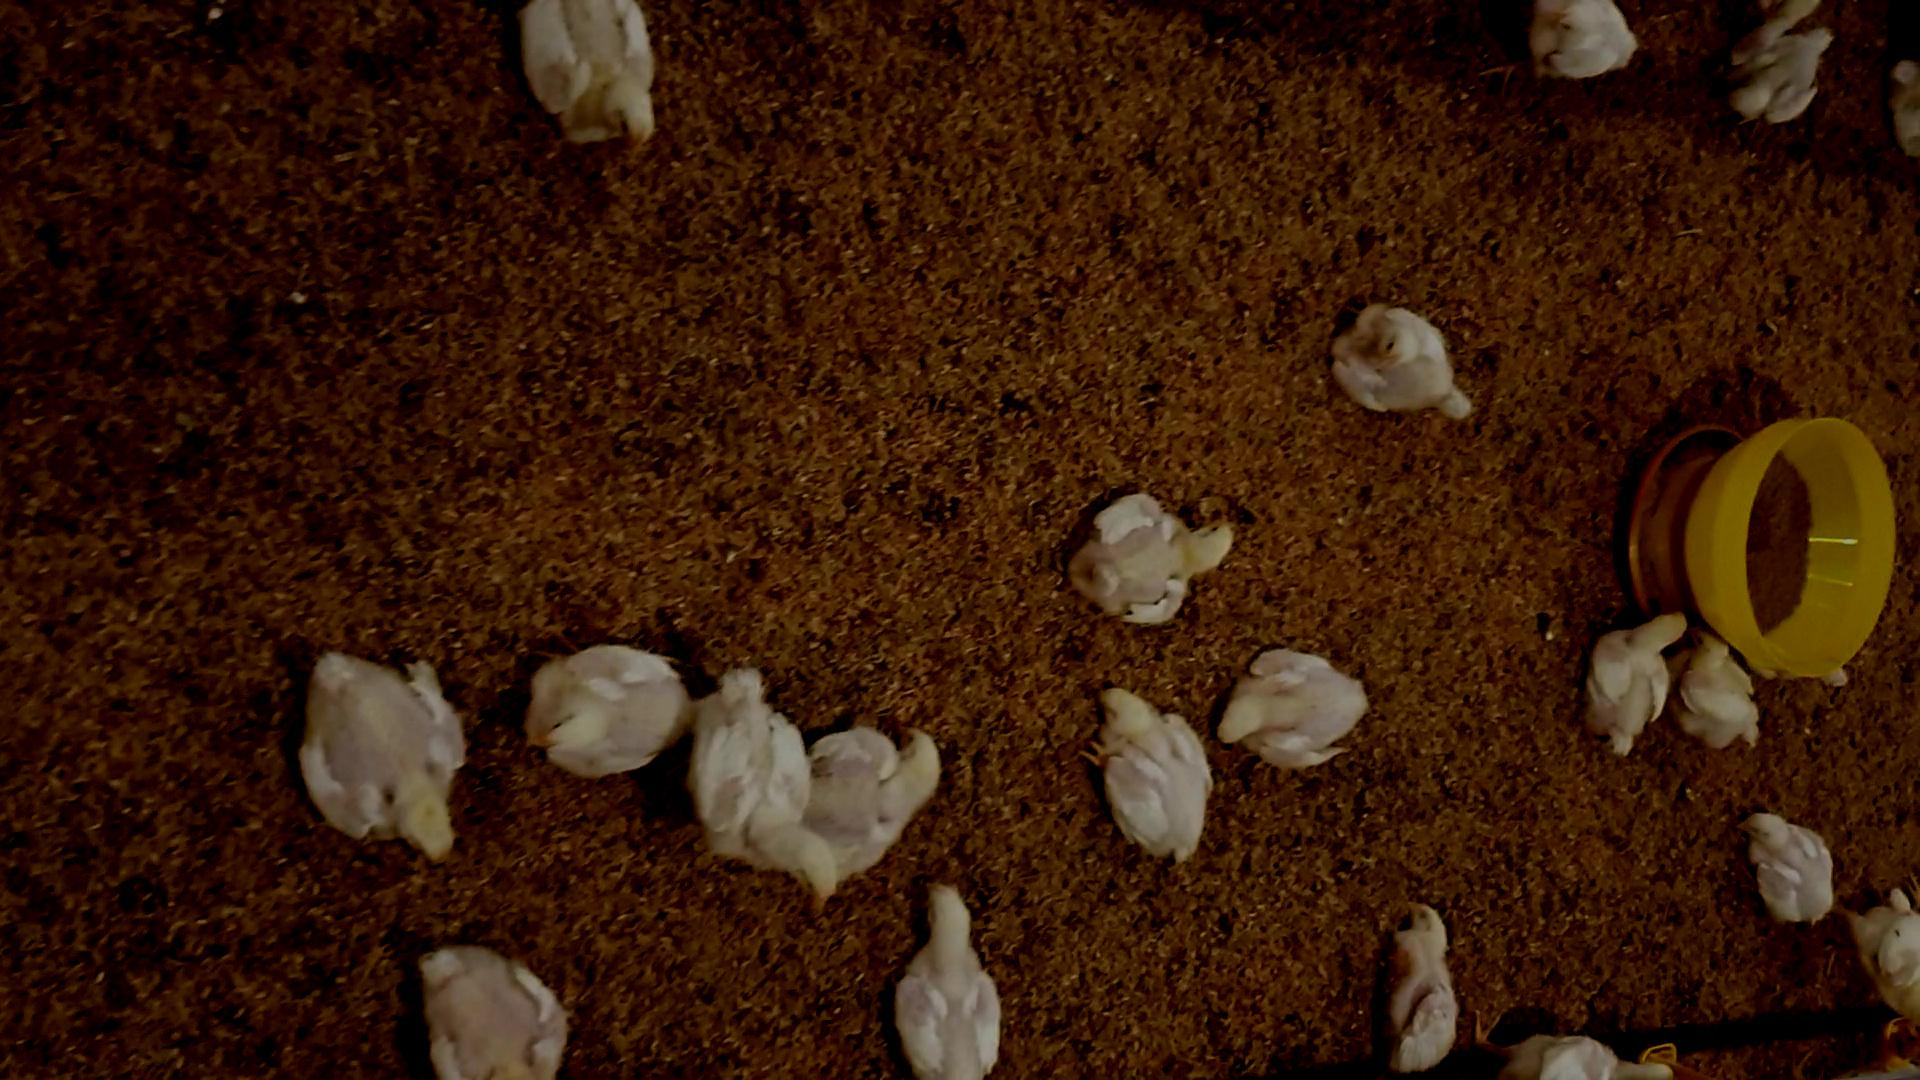Pollos: (684, 670, 839, 909), (307, 647, 469, 858), (402, 940, 595, 1080), (516, 1, 673, 149), (1212, 641, 1382, 771), (890, 876, 997, 1080), (1092, 687, 1212, 864), (1073, 491, 1240, 616), (527, 637, 688, 764), (1369, 902, 1476, 1073), (1336, 307, 1480, 425), (1580, 603, 1676, 765), (1718, 18, 1844, 135), (833, 719, 942, 833), (1501, 1, 1651, 75), (1685, 620, 1774, 742), (1737, 814, 1834, 916)
